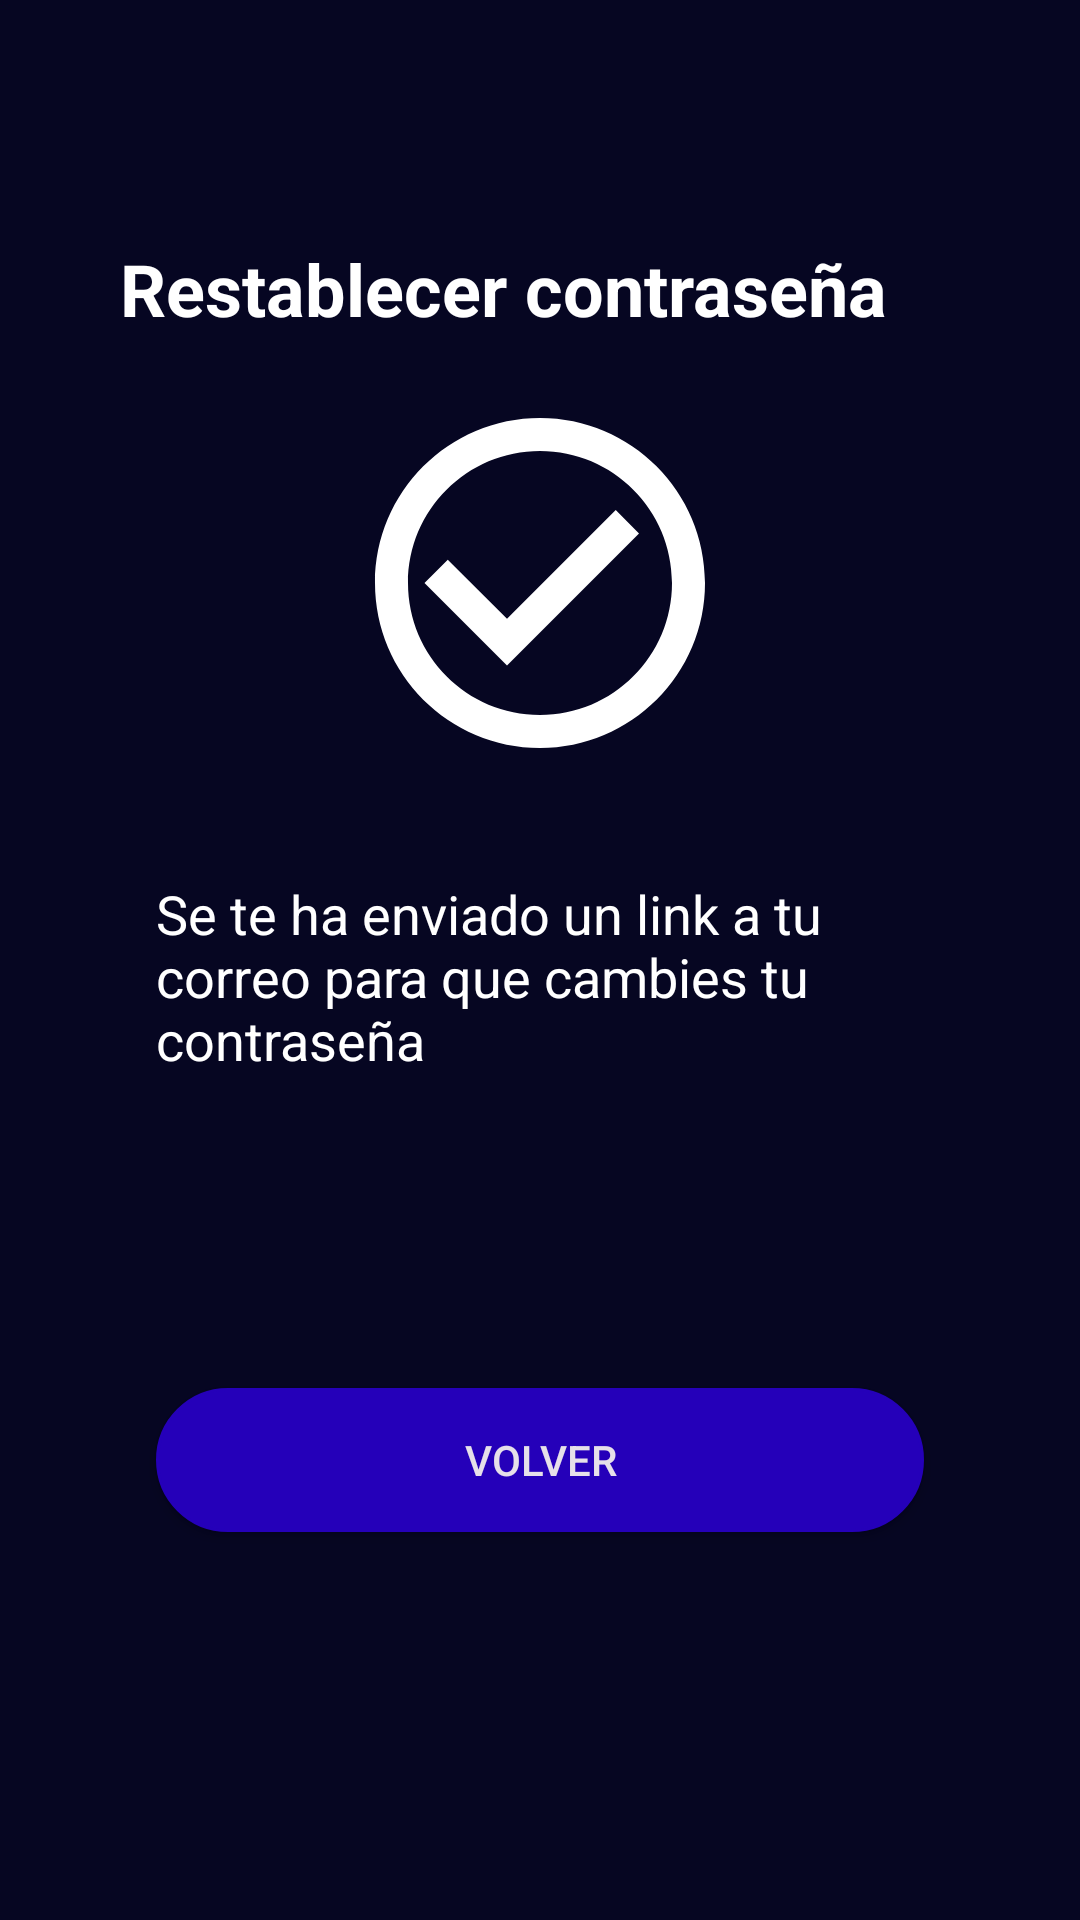

Locate icon controls on the screen. Image size 1080×1920, boxes as (x1, y1, x2, y2).
check circle: (375, 418, 705, 748)
